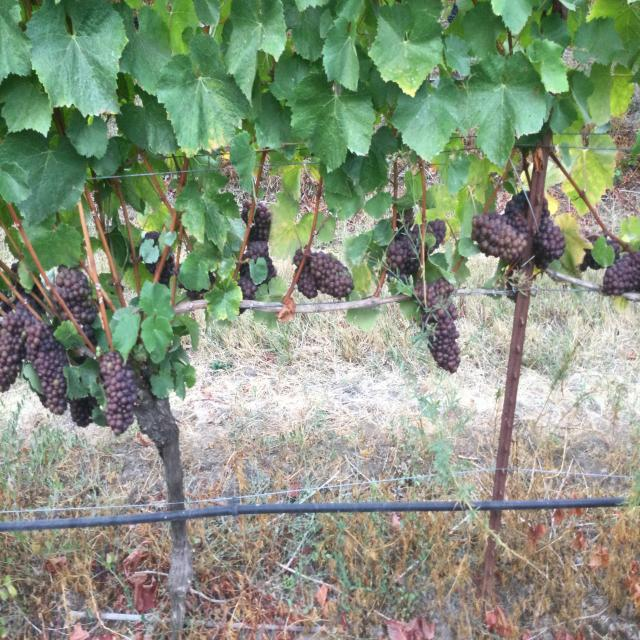grapes: (0, 303, 68, 413), (418, 278, 460, 373), (99, 352, 138, 435), (55, 265, 96, 343), (471, 212, 526, 263), (298, 252, 354, 298), (386, 208, 421, 277), (534, 200, 565, 270), (602, 250, 640, 297), (244, 240, 276, 282), (505, 192, 528, 235), (249, 202, 271, 242), (238, 262, 259, 300), (426, 218, 446, 253), (159, 252, 175, 287), (292, 247, 305, 268), (142, 232, 160, 245), (241, 200, 251, 223), (145, 260, 159, 275)
